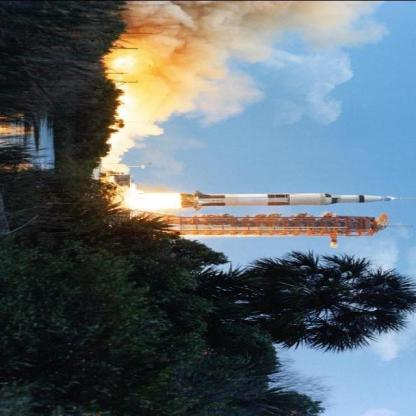MIL_TBM: (192, 192, 399, 208)
